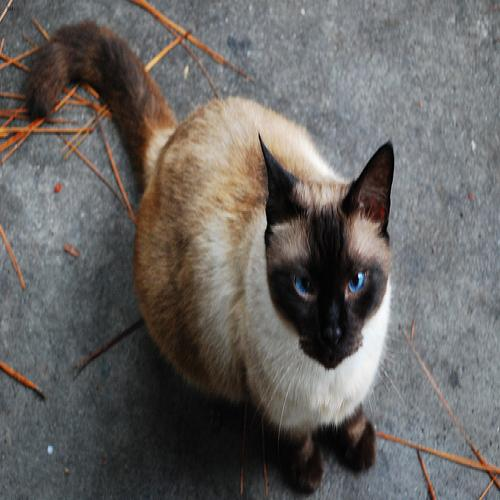siamese: (252, 121, 406, 395)
